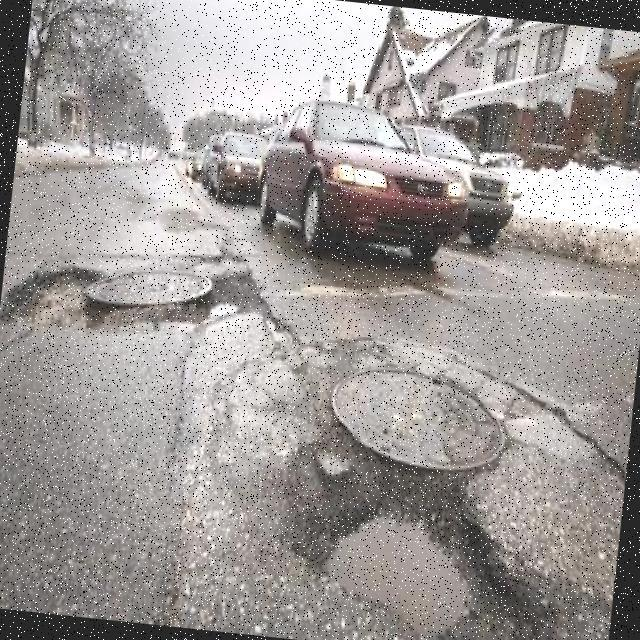Pothole: (279, 420, 551, 640), (0, 264, 274, 339)
